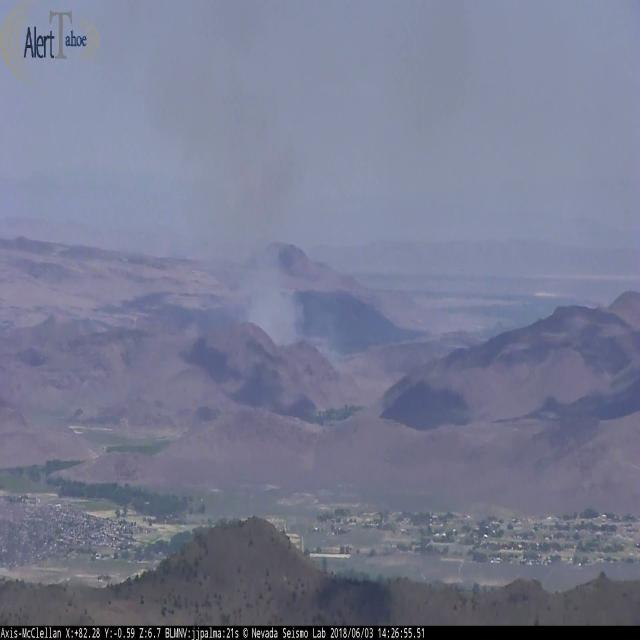smoke: (192, 96, 309, 343)
